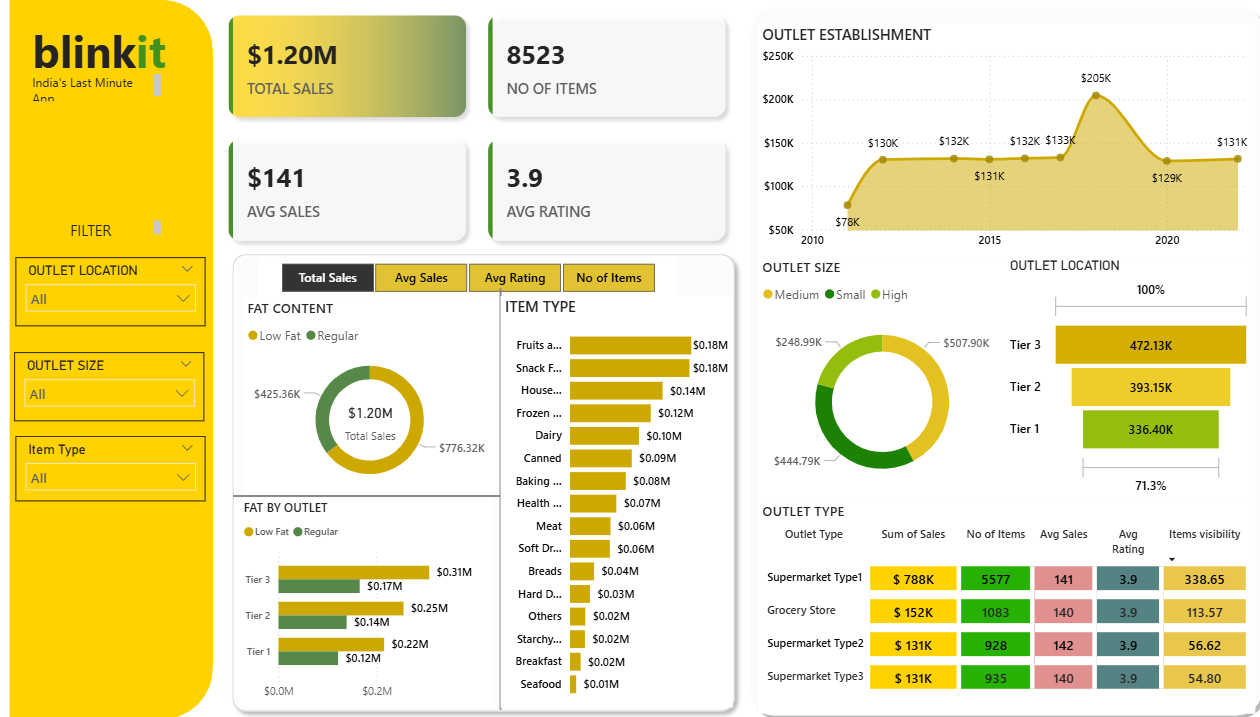

This screenshot's page, from the dashboard's own definition file:
{"tool":"powerbi","page":{"name":"Page 1","canvas":[1400,800],"ordinal":0},"visuals":[{"type":"shape","box":[28.5,15,222.1,785],"z":0},{"type":"textbox","box":[49.5,15,175.6,96.1],"z":1000},{"type":"textbox","box":[49.5,91.6,150.1,39],"z":2000},{"type":"cardVisual","fields":{"Data":["BlinkIT Grocery Data.Total Sales","BlinkIT Grocery Data.No of Items","BlinkIT Grocery Data.Avg Sales","BlinkIT Grocery Data.Avg Rating"]},"box":[250.6,15,577.8,280.7],"z":3000},{"type":"shape","box":[263.1,283.6,565.8,516.7],"z":4000},{"type":"donutChart","title":" FAT CONTENT","fields":{"Y":["BlinkIT Grocery Data.Total Sales"],"Category":["BlinkIT Grocery Data.Item Fat Content"]},"box":[283.6,340.8,276.8,215.4],"z":5000},{"type":"slicer","fields":{"Values":["Metrics.Metrics"]},"box":[299.9,295.8,456.7,45],"z":6000},{"type":"card","fields":{"Values":["BlinkIT Grocery Data.Total Sales"]},"box":[388.6,447.2,68.2,54.5],"z":7000},{"type":"clusteredBarChart","title":"FAT BY OUTLET ","fields":{"Y":["BlinkIT Grocery Data.Total Sales"],"Category":["BlinkIT Grocery Data.Outlet Location Type"],"Series":["BlinkIT Grocery Data.Item Fat Content"]},"box":[279.5,559,276.8,227.7],"z":8000},{"type":"shape","box":[272.7,526.2,291.8,60],"z":9000},{"type":"shape","box":[534.4,329.9,60,459.4],"z":10000},{"type":"barChart","title":"ITEM TYPE","fields":{"Y":["BlinkIT Grocery Data.Total Sales"],"Category":["BlinkIT Grocery Data.Item Type"]},"box":[564.4,338.1,253.6,448.5],"z":11000},{"type":"shape","box":[828.9,15,571.2,785.3],"z":12000},{"type":"lineChart","title":"OUTLET ESTABLISHMENT","fields":{"Y":["BlinkIT Grocery Data.Total Sales"],"Category":["BlinkIT Grocery Data.Outlet Establishment Year"]},"box":[845.3,40.9,542.6,254.9],"z":13000},{"type":"donutChart","title":"OUTLET SIZE","fields":{"Y":["BlinkIT Grocery Data.Total Sales"],"Category":["BlinkIT Grocery Data.Outlet Size"]},"box":[845.3,295.8,271.3,265.9],"z":14000},{"type":"funnel","title":"OUTLET LOCATION","fields":{"Category":["BlinkIT Grocery Data.Outlet Location Type"],"Y":["Sum(BlinkIT Grocery Data.Sales)"]},"box":[1115.2,295.8,272.7,265.9],"z":15000},{"type":"pivotTable","title":"OUTLET TYPE","fields":{"Rows":["BlinkIT Grocery Data.Outlet Type"],"Values":["Sum(BlinkIT Grocery Data.Sales)","BlinkIT Grocery Data.No of Items","BlinkIT Grocery Data.Avg Sales","BlinkIT Grocery Data.Avg Rating","Sum(BlinkIT Grocery Data.Item Visibility)"]},"box":[845.3,561.7,542.6,231.8],"z":16000},{"type":"slicer","fields":{"Values":["BlinkIT Grocery Data.Outlet Location Type"]},"box":[35.4,295.8,207.2,75],"z":17000},{"type":"slicer","fields":{"Values":["BlinkIT Grocery Data.Outlet Size"]},"box":[34.1,399.5,207.2,75],"z":18000},{"type":"slicer","fields":{"Values":["BlinkIT Grocery Data.Item Type"]},"box":[35.4,490.8,207.2,70.9],"z":19000},{"type":"textbox","box":[90,250.9,109.1,32.7],"z":20000}]}

Visuals, with their boxes in screenshot pixels (x1, y1, x2, y2), scaled from the page's 1400x800 canvas onto the 1260x717 screenshot:
shape: {"left": 26, "top": 13, "right": 226, "bottom": 716}
textbox: {"left": 45, "top": 13, "right": 203, "bottom": 100}
textbox: {"left": 45, "top": 82, "right": 180, "bottom": 117}
cardVisual - BlinkIT Grocery Data.Total Sales x BlinkIT Grocery Data.No of Items: {"left": 226, "top": 13, "right": 746, "bottom": 265}
shape: {"left": 237, "top": 254, "right": 746, "bottom": 716}
" FAT CONTENT" donutChart: {"left": 255, "top": 305, "right": 504, "bottom": 498}
slicer - Metrics.Metrics: {"left": 270, "top": 265, "right": 681, "bottom": 305}
card - BlinkIT Grocery Data.Total Sales: {"left": 350, "top": 401, "right": 411, "bottom": 450}
"FAT BY OUTLET " clusteredBarChart: {"left": 252, "top": 501, "right": 501, "bottom": 705}
shape: {"left": 245, "top": 472, "right": 508, "bottom": 525}
shape: {"left": 481, "top": 296, "right": 535, "bottom": 707}
"ITEM TYPE" barChart: {"left": 508, "top": 303, "right": 736, "bottom": 705}
shape: {"left": 746, "top": 13, "right": 1259, "bottom": 716}
"OUTLET ESTABLISHMENT" lineChart: {"left": 761, "top": 37, "right": 1249, "bottom": 265}
"OUTLET SIZE" donutChart: {"left": 761, "top": 265, "right": 1005, "bottom": 503}
"OUTLET LOCATION" funnel: {"left": 1004, "top": 265, "right": 1249, "bottom": 503}
"OUTLET TYPE" pivotTable: {"left": 761, "top": 503, "right": 1249, "bottom": 711}
slicer - BlinkIT Grocery Data.Outlet Location Type: {"left": 32, "top": 265, "right": 218, "bottom": 332}
slicer - BlinkIT Grocery Data.Outlet Size: {"left": 31, "top": 358, "right": 217, "bottom": 425}
slicer - BlinkIT Grocery Data.Item Type: {"left": 32, "top": 440, "right": 218, "bottom": 503}
textbox: {"left": 81, "top": 225, "right": 179, "bottom": 254}
